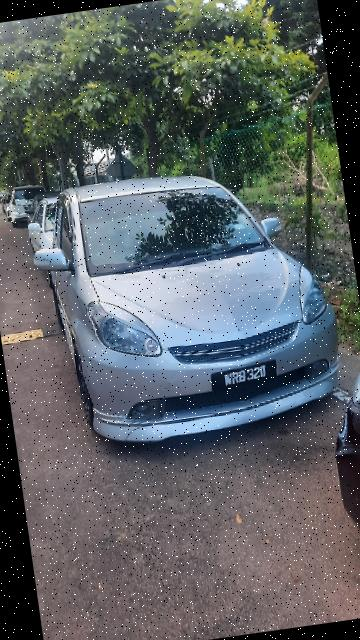License_Plate: (205, 360, 282, 393)
car: (23, 149, 355, 456)
